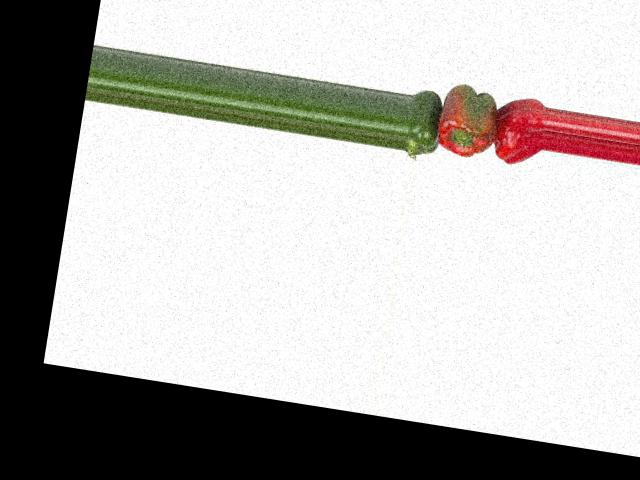bell_pepper: (487, 90, 549, 174)
